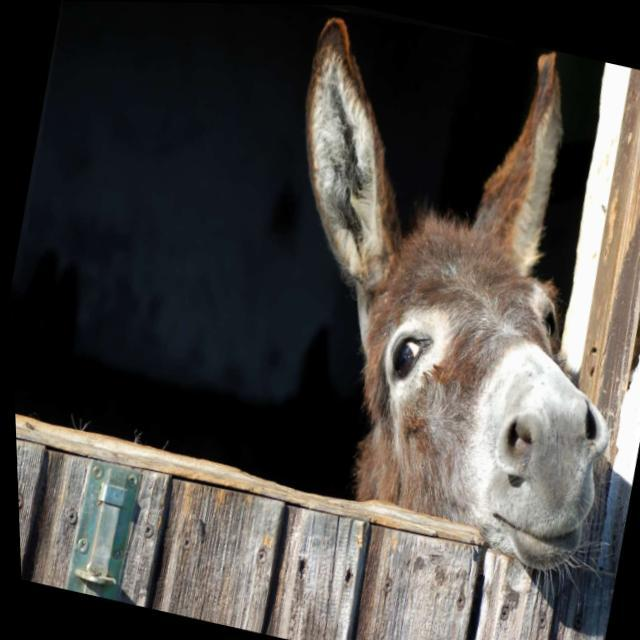Donkey: (217, 14, 640, 568)
